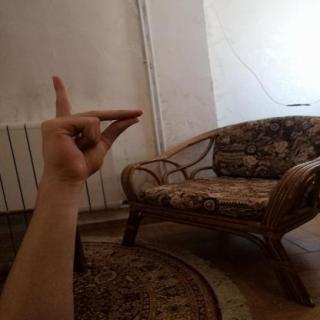TAA: (30, 68, 152, 188)
